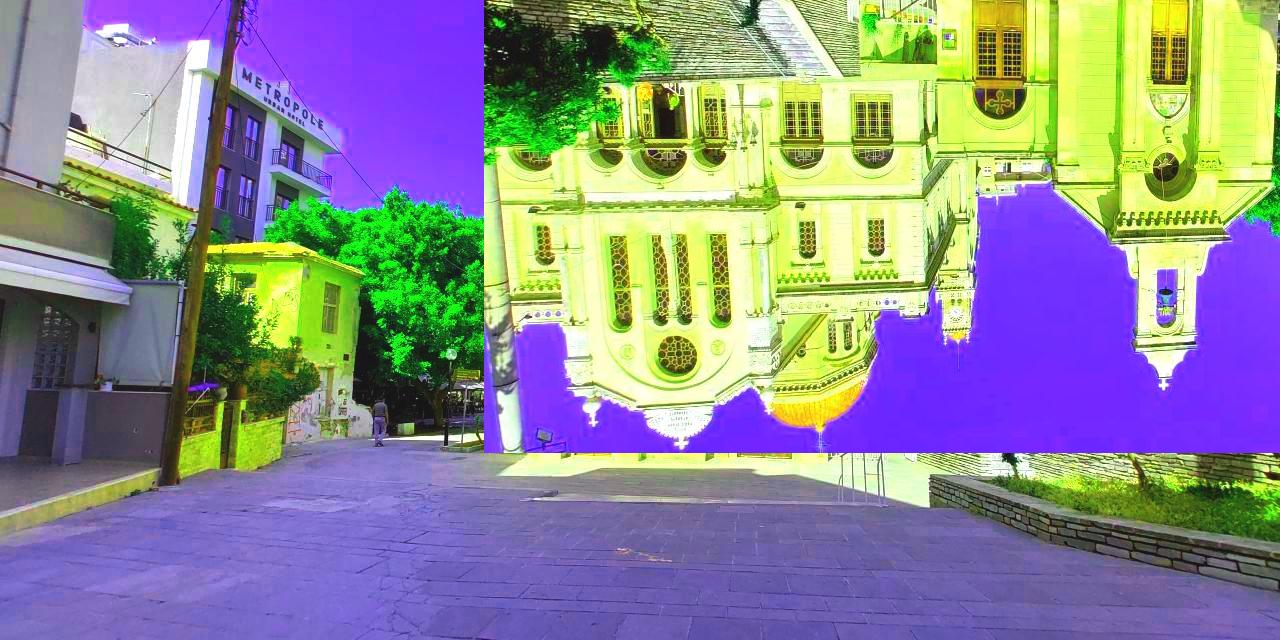Agios Minas: (485, 1, 1280, 454)
